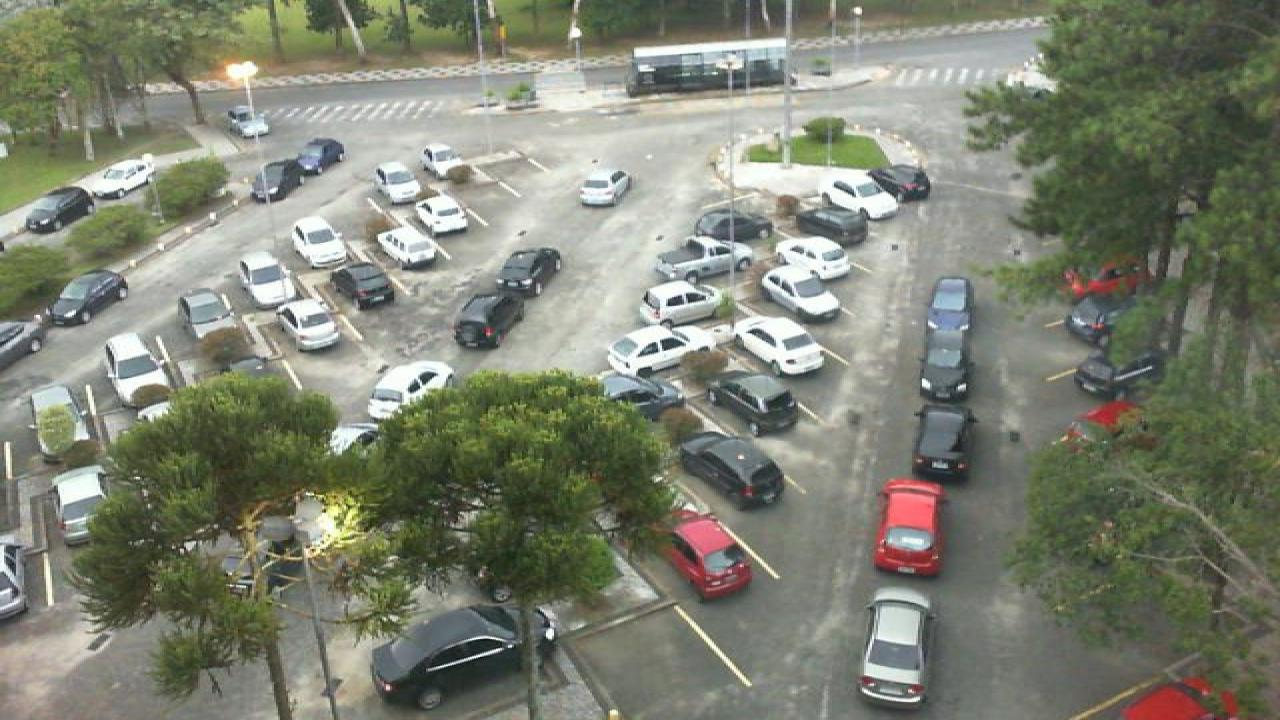Car: (366, 603, 556, 709), (856, 587, 934, 709), (662, 509, 756, 600), (680, 431, 786, 511), (868, 480, 948, 580), (704, 372, 802, 436), (728, 315, 828, 377), (606, 324, 716, 378), (906, 402, 978, 482), (366, 361, 454, 423), (758, 262, 846, 322), (48, 465, 110, 544), (1068, 347, 1162, 397), (48, 269, 130, 325), (656, 236, 754, 282), (450, 293, 526, 351), (100, 331, 168, 395), (920, 276, 976, 351), (592, 373, 682, 419), (640, 279, 726, 327), (482, 246, 564, 296), (916, 333, 974, 401), (818, 178, 900, 225), (272, 299, 344, 352), (20, 184, 96, 233), (772, 235, 854, 280), (794, 204, 874, 248), (1058, 258, 1148, 297), (288, 214, 350, 269), (174, 287, 238, 340), (1064, 290, 1128, 343), (326, 264, 398, 310), (238, 251, 296, 305), (692, 208, 774, 245), (372, 225, 438, 269), (866, 163, 932, 204), (412, 192, 472, 236), (92, 159, 154, 199), (0, 319, 46, 369), (576, 168, 634, 207), (372, 162, 424, 205), (252, 162, 304, 202), (294, 138, 346, 176), (224, 105, 272, 138), (420, 145, 466, 178)
